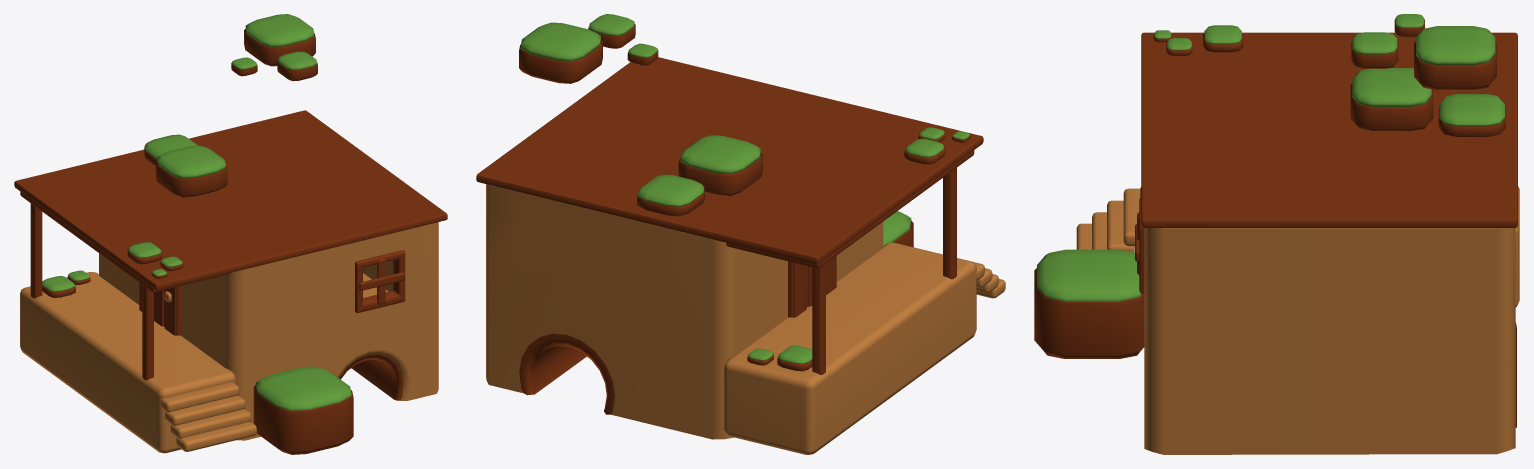
The model's file is WaterMill.fbx.
3 views of the same model, side by side, from view 1: azimuth 30°, elevation 25°; view 2: azimuth 150°, elevation 25°; view 3: azimuth 270°, elevation 25° (orthographic). The views are drawn at different scales.
Parts seen in each view (by area): view 1: WaterMill58, WaterMill10, WaterMill6, WaterMill13, WaterMill60, WaterMill59, WaterMill12, WaterMill61, WaterMill51, WaterMill53, WaterMill52, WaterMill15 (+7 smaller); view 2: WaterMill58, WaterMill10, WaterMill6, WaterMill53, WaterMill51, WaterMill61, WaterMill62, WaterMill52, WaterMill15, WaterMill49, WaterMill19, WaterMill20 (+6 smaller); view 3: WaterMill10, WaterMill58, WaterMill60, WaterMill59, WaterMill61, WaterMill13, WaterMill51, WaterMill62, WaterMill52, WaterMill49, WaterMill63, WaterMill50 (+4 smaller).
Boxes of the visible parts, x1,y1,x2,y2 form: WaterMill58: (14, 110, 447, 290); WaterMill10: (99, 222, 438, 440); WaterMill6: (20, 272, 235, 453); WaterMill13: (160, 382, 256, 451); WaterMill60: (253, 385, 353, 454); WaterMill59: (255, 366, 351, 410); WaterMill12: (355, 250, 405, 313); WaterMill61: (245, 14, 314, 46); WaterMill51: (157, 145, 225, 178); WaterMill53: (339, 354, 403, 400); WaterMill52: (155, 160, 227, 197); WaterMill15: (139, 283, 180, 335); WaterMill58: (476, 57, 983, 264); WaterMill10: (486, 184, 883, 439); WaterMill6: (724, 242, 976, 454); WaterMill53: (519, 333, 614, 414); WaterMill51: (680, 135, 760, 173); WaterMill61: (520, 22, 600, 61); WaterMill62: (519, 40, 602, 83); WaterMill52: (678, 153, 762, 195); WaterMill15: (788, 256, 836, 317); WaterMill49: (637, 174, 704, 206); WaterMill19: (812, 263, 825, 374); WaterMill20: (943, 168, 956, 279); WaterMill10: (1144, 228, 1515, 454); WaterMill58: (1141, 32, 1517, 227); WaterMill60: (1034, 268, 1144, 358); WaterMill59: (1037, 249, 1141, 301); WaterMill61: (1416, 26, 1495, 65); WaterMill13: (1076, 188, 1139, 252); WaterMill51: (1352, 68, 1431, 106); WaterMill62: (1414, 41, 1496, 89); WaterMill52: (1350, 83, 1433, 130); WaterMill49: (1439, 94, 1504, 126); WaterMill63: (1352, 32, 1397, 54); WaterMill50: (1438, 107, 1505, 136).
Size of what is drawn, in the model's own units: 32.18 by 30.74 by 35.
